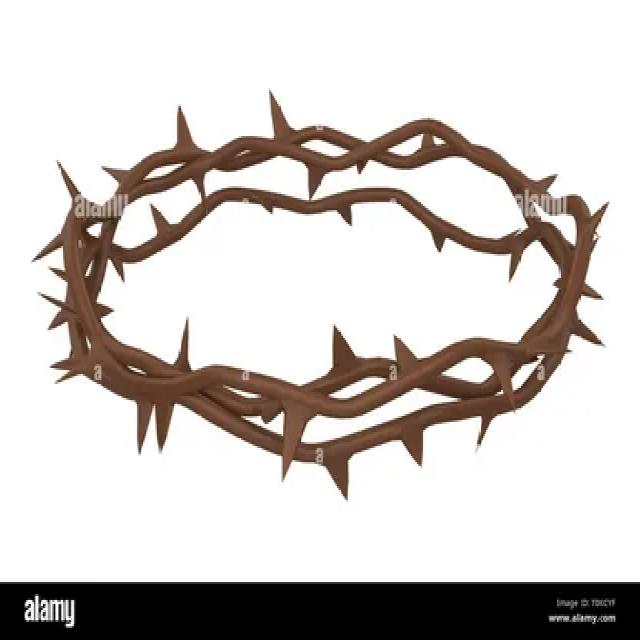crown: (39, 92, 620, 476)
